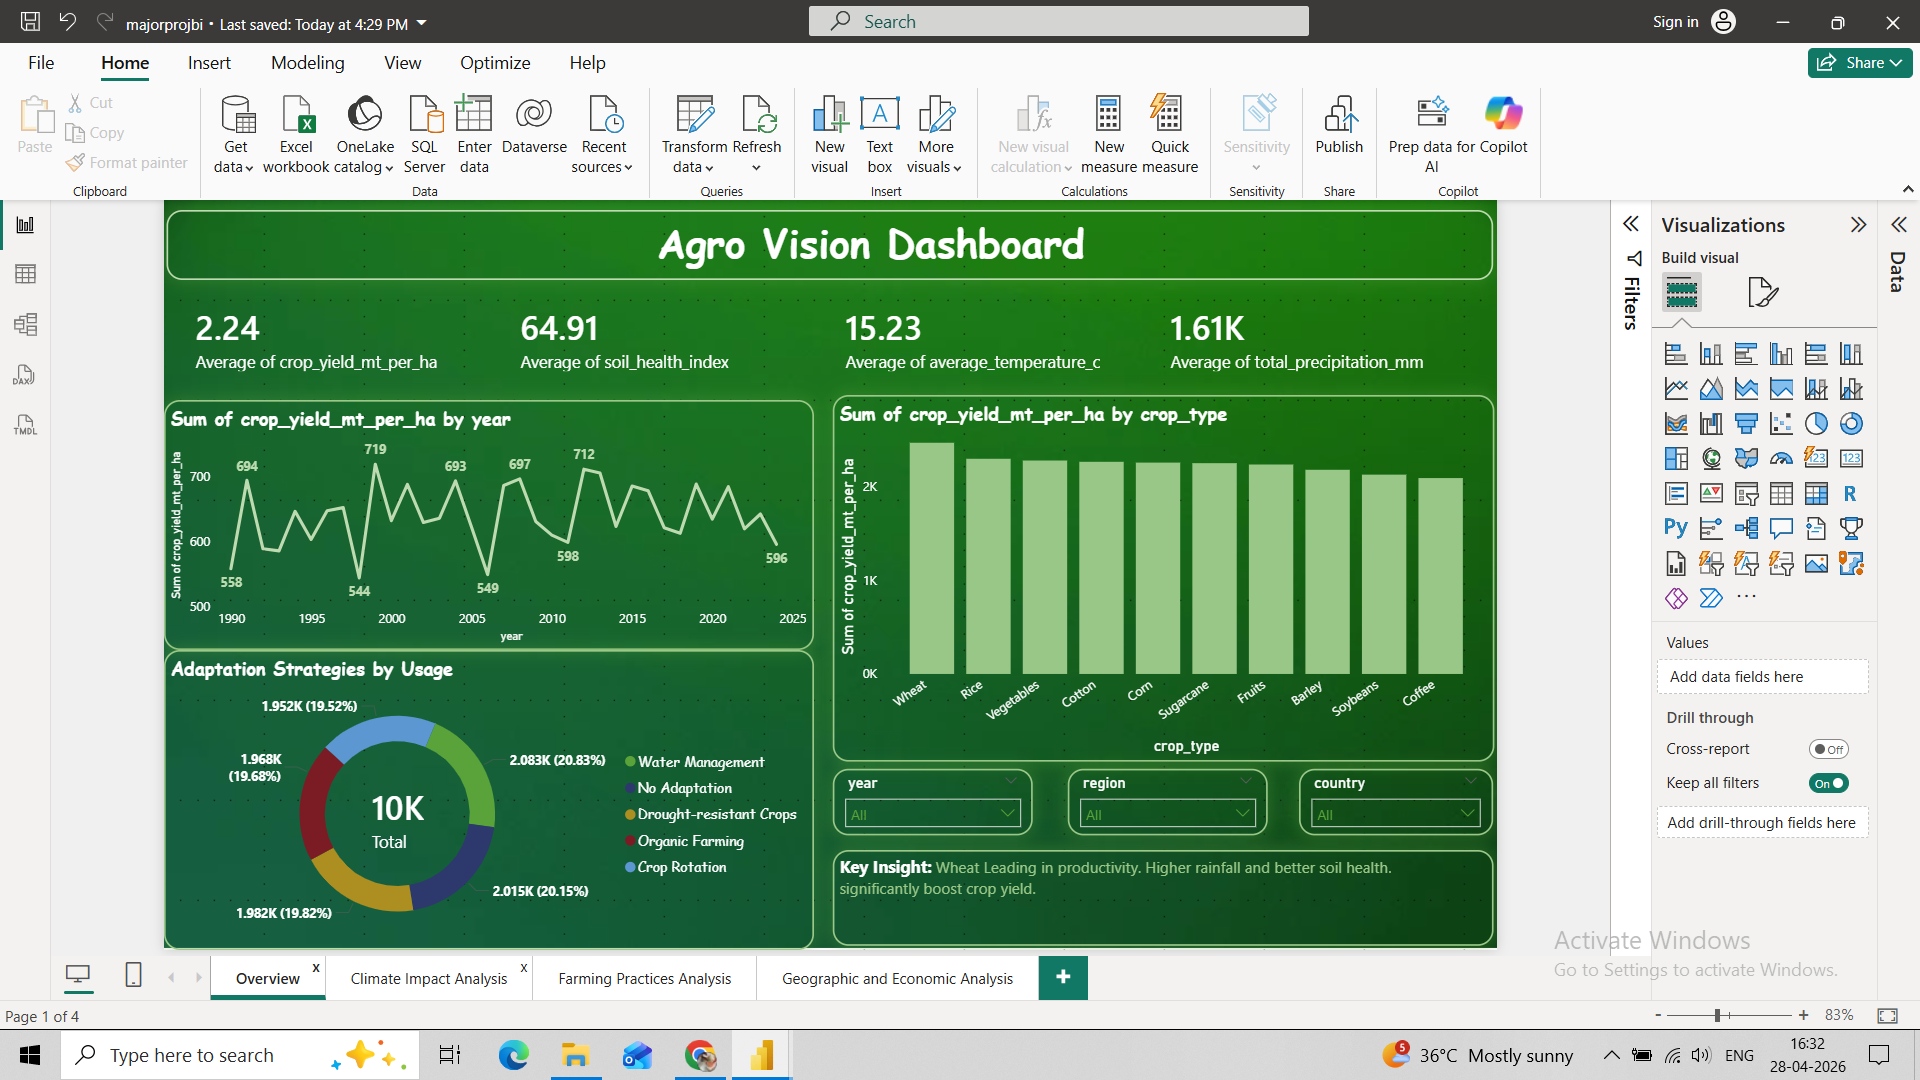

The dashboard page shown, as its layout file describes it:
{"tool":"powerbi","page":{"name":"Overview","canvas":[1280,720],"ordinal":0},"visuals":[{"type":"cardVisual","fields":{"Data":["Avg(filtered_agrofile.crop_yield_mt_per_ha)","Avg(filtered_agrofile.soil_health_index)","Avg(filtered_agrofile.average_temperature_c)","Avg(filtered_agrofile.total_precipitation_mm)"]},"box":[1,86,1275,96],"z":0},{"type":"lineChart","fields":{"Category":["filtered_agrofile.year"],"Y":["Sum(filtered_agrofile.crop_yield_mt_per_ha)"]},"box":[0,192,624,240],"z":1000},{"type":"clusteredColumnChart","fields":{"Category":["filtered_agrofile.crop_type"],"Y":["Sum(filtered_agrofile.crop_yield_mt_per_ha)"]},"box":[642,187,635,352],"z":2000},{"type":"donutChart","title":"Adaptation  Strategies by Usage","fields":{"Category":["filtered_agrofile.adaptation_strategies"],"Y":["CountNonNull(filtered_agrofile.adaptation_strategies)"]},"box":[0,432,624,288],"z":3000},{"type":"slicer","fields":{"Values":["filtered_agrofile.year"]},"box":[642,546,192,64],"z":4000},{"type":"slicer","fields":{"Values":["filtered_agrofile.country"]},"box":[1090,546,186,64],"z":5000},{"type":"slicer","fields":{"Values":["filtered_agrofile.region"]},"box":[867,546,192,64],"z":6000},{"type":"cardVisual","fields":{"Data":["CountNonNull(filtered_agrofile.adaptation_strategies)"]},"box":[170,546,172,96],"z":7000},{"type":"textbox","box":[642,624,634,92],"z":8000},{"type":"textbox","box":[2.7,9.6,1273.4,67.2],"z":9000}]}

Visuals, with their boxes on the page's 1280x720 design canvas (x1, y1, x2, y2). These are canvas units, not pixel positions in the 1920x1080 screenshot, which may show the page scaled, cropped or inside an application window:
cardVisual - Avg(filtered_agrofile.crop_yield_mt_per_ha) x Avg(filtered_agrofile.soil_health_index): <box>1,86,1276,182</box>
lineChart - filtered_agrofile.year x Sum(filtered_agrofile.crop_yield_mt_per_ha): <box>0,192,624,432</box>
clusteredColumnChart - filtered_agrofile.crop_type x Sum(filtered_agrofile.crop_yield_mt_per_ha): <box>642,187,1277,539</box>
"Adaptation  Strategies by Usage" donutChart: <box>0,432,624,720</box>
slicer - filtered_agrofile.year: <box>642,546,834,610</box>
slicer - filtered_agrofile.country: <box>1090,546,1276,610</box>
slicer - filtered_agrofile.region: <box>867,546,1059,610</box>
cardVisual - CountNonNull(filtered_agrofile.adaptation_strategies): <box>170,546,342,642</box>
textbox: <box>642,624,1276,716</box>
textbox: <box>3,10,1276,77</box>
